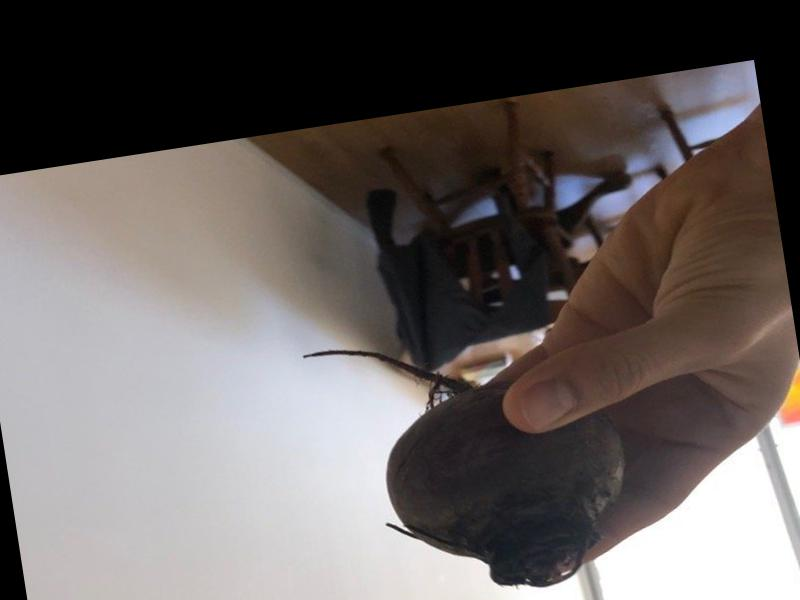Beet: (302, 308, 640, 600)
